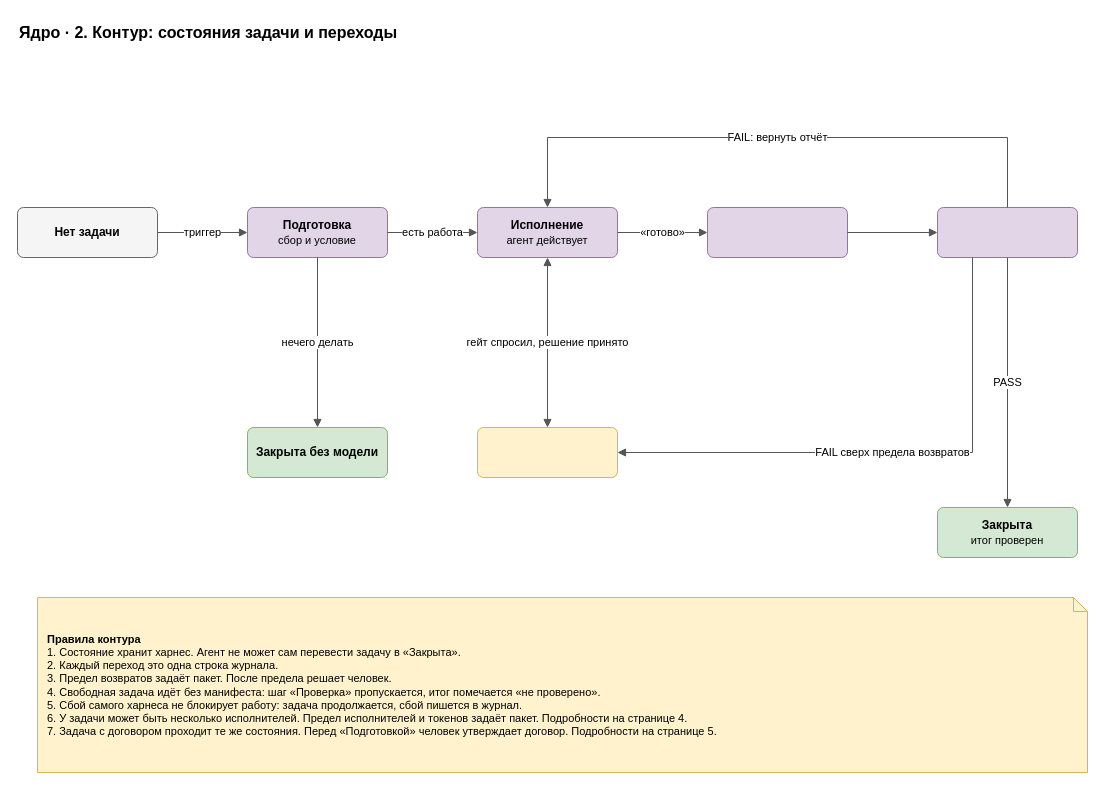
This 1105x790 diagram has some shape labels left out. The shapes that lost their labels are listed below. From the top down, each one's centre as x and y in pixels, then its label:
At [777,232]: "Отчёт подан".
At [1007,232]: "Проверка фактами".
At [547,452]: "Ожидает человека".
